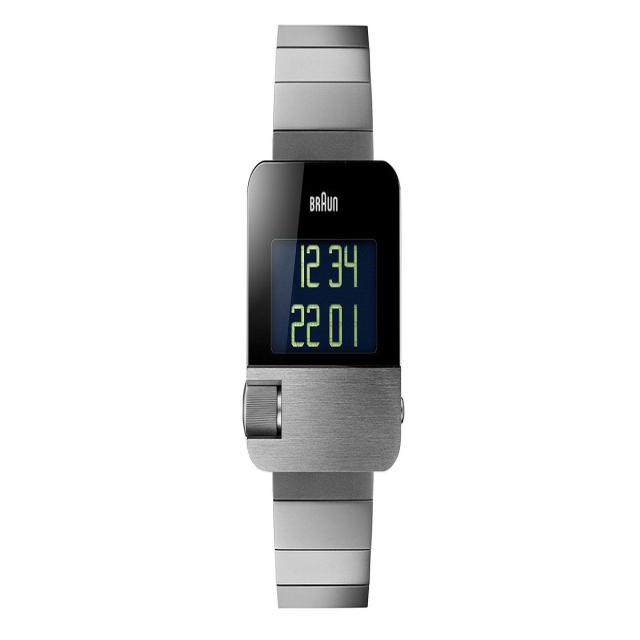watch: (246, 23, 401, 609)
